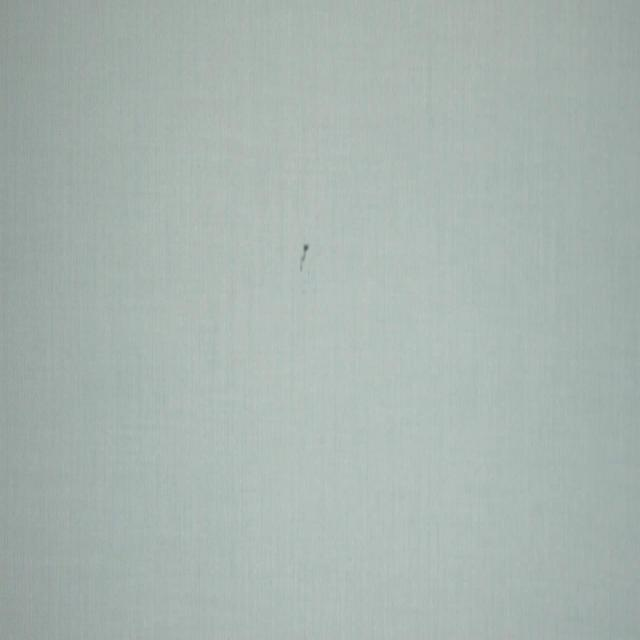dirty: (298, 242, 310, 270)
